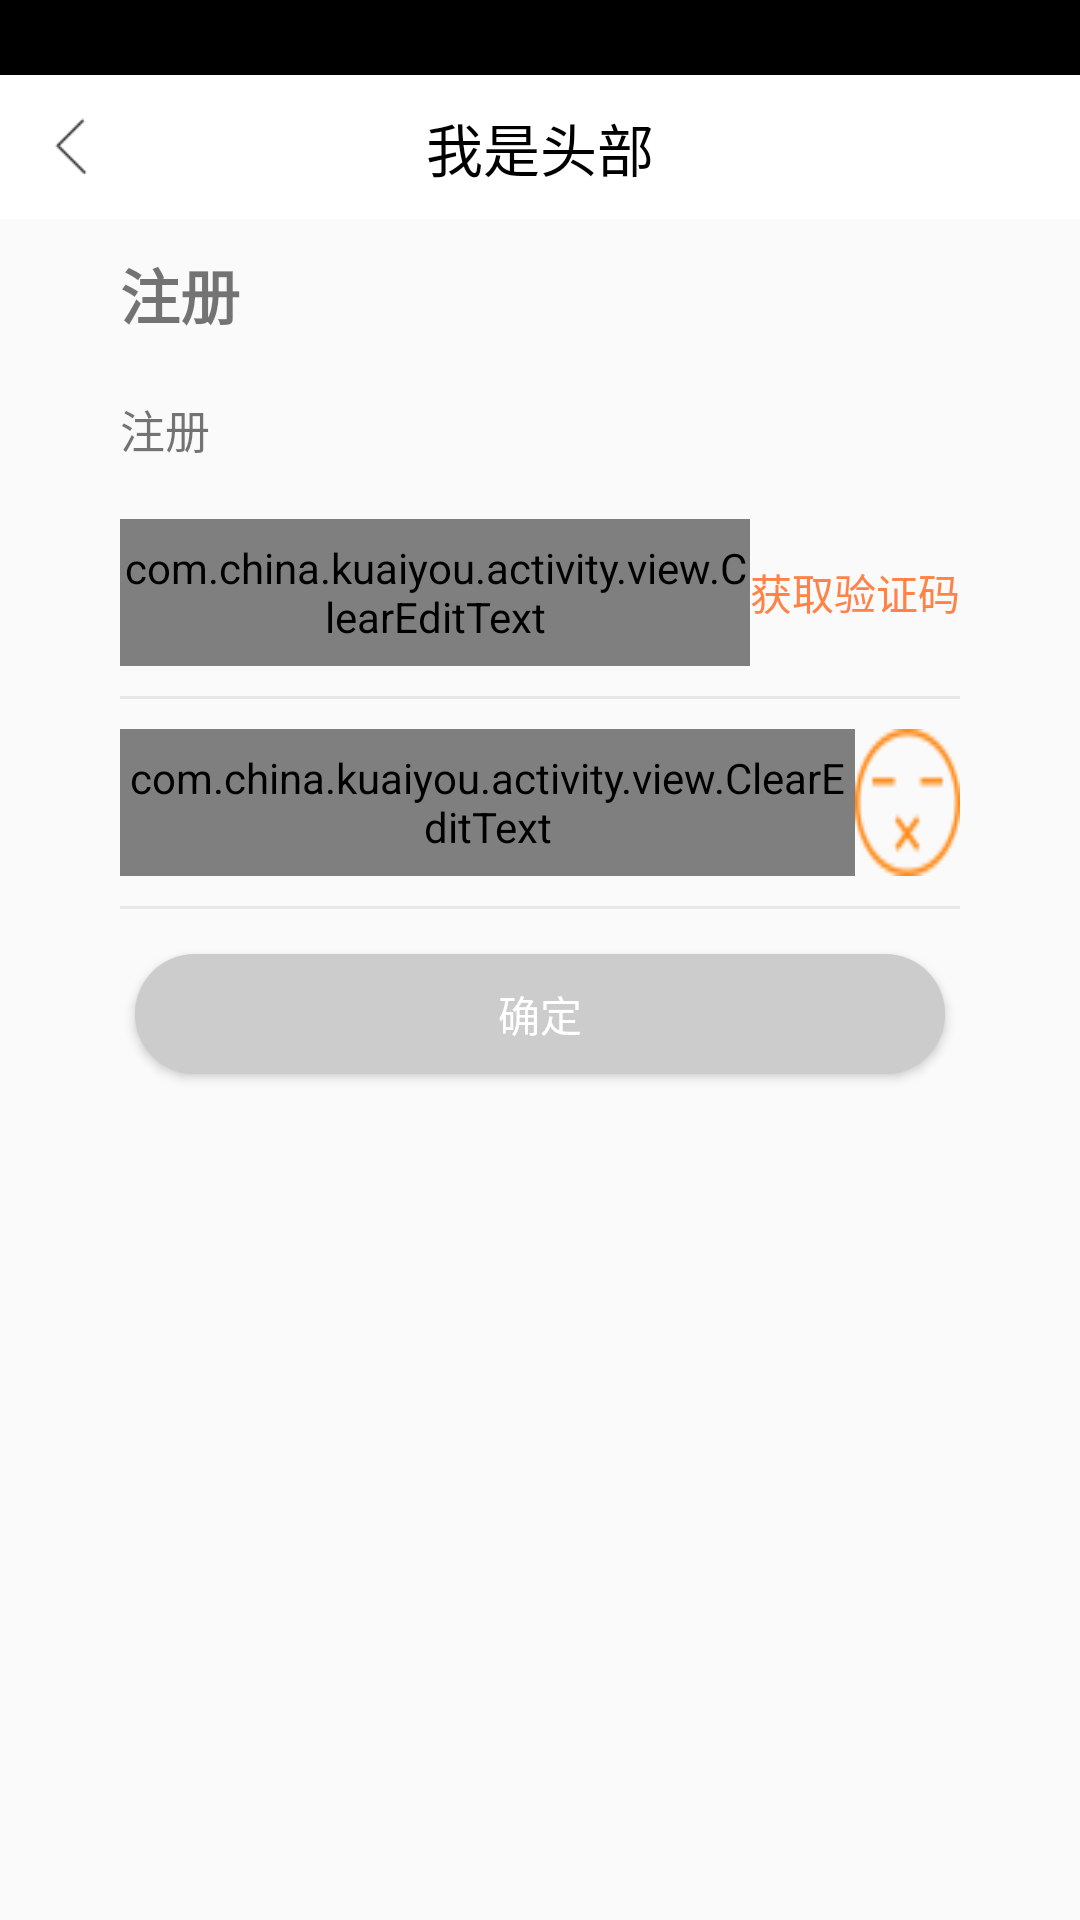

Named icons in this screenshot (1080px x 1920px) and their centers, [x,y]:
returns: [70,146]
